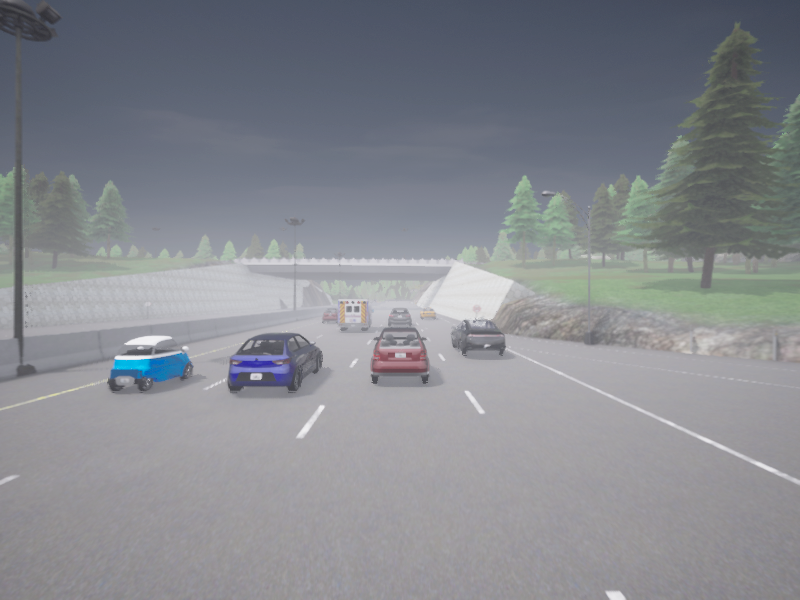vehicle: (227, 332, 322, 392), (108, 336, 192, 391), (371, 327, 428, 382), (451, 320, 505, 355), (337, 300, 374, 330), (388, 308, 411, 325), (323, 308, 337, 323), (420, 306, 435, 318)
